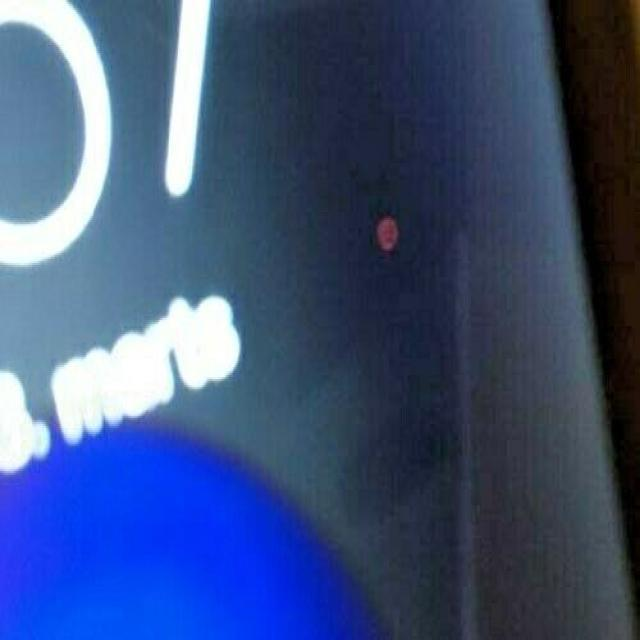dead pixel: (333, 129, 444, 336)
